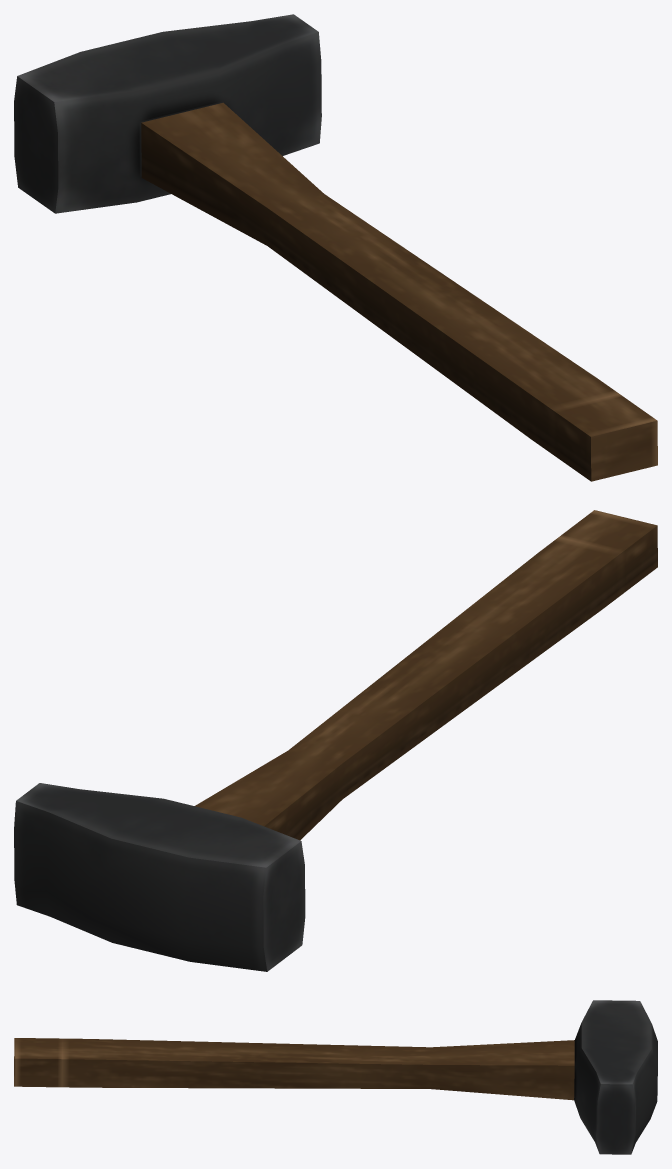
The model's file is SM_hammerAnvil.fbx.
3 views of the same model, one above another, from view 1: azimuth 30°, elevation 25°; view 2: azimuth 150°, elevation 25°; view 3: azimuth 270°, elevation 25° (orthographic). The views are drawn at different scales.
Parts seen in each view (by area): view 1: SM_hammerAnvil; view 2: SM_hammerAnvil; view 3: SM_hammerAnvil.
Boxes of the visible parts, x1,y1,x2,y2 form: SM_hammerAnvil: (14, 14, 657, 481); SM_hammerAnvil: (14, 510, 657, 971); SM_hammerAnvil: (14, 1000, 657, 1154).
Size of the model in its own units: 0.52 by 0.2065 by 1.69.
